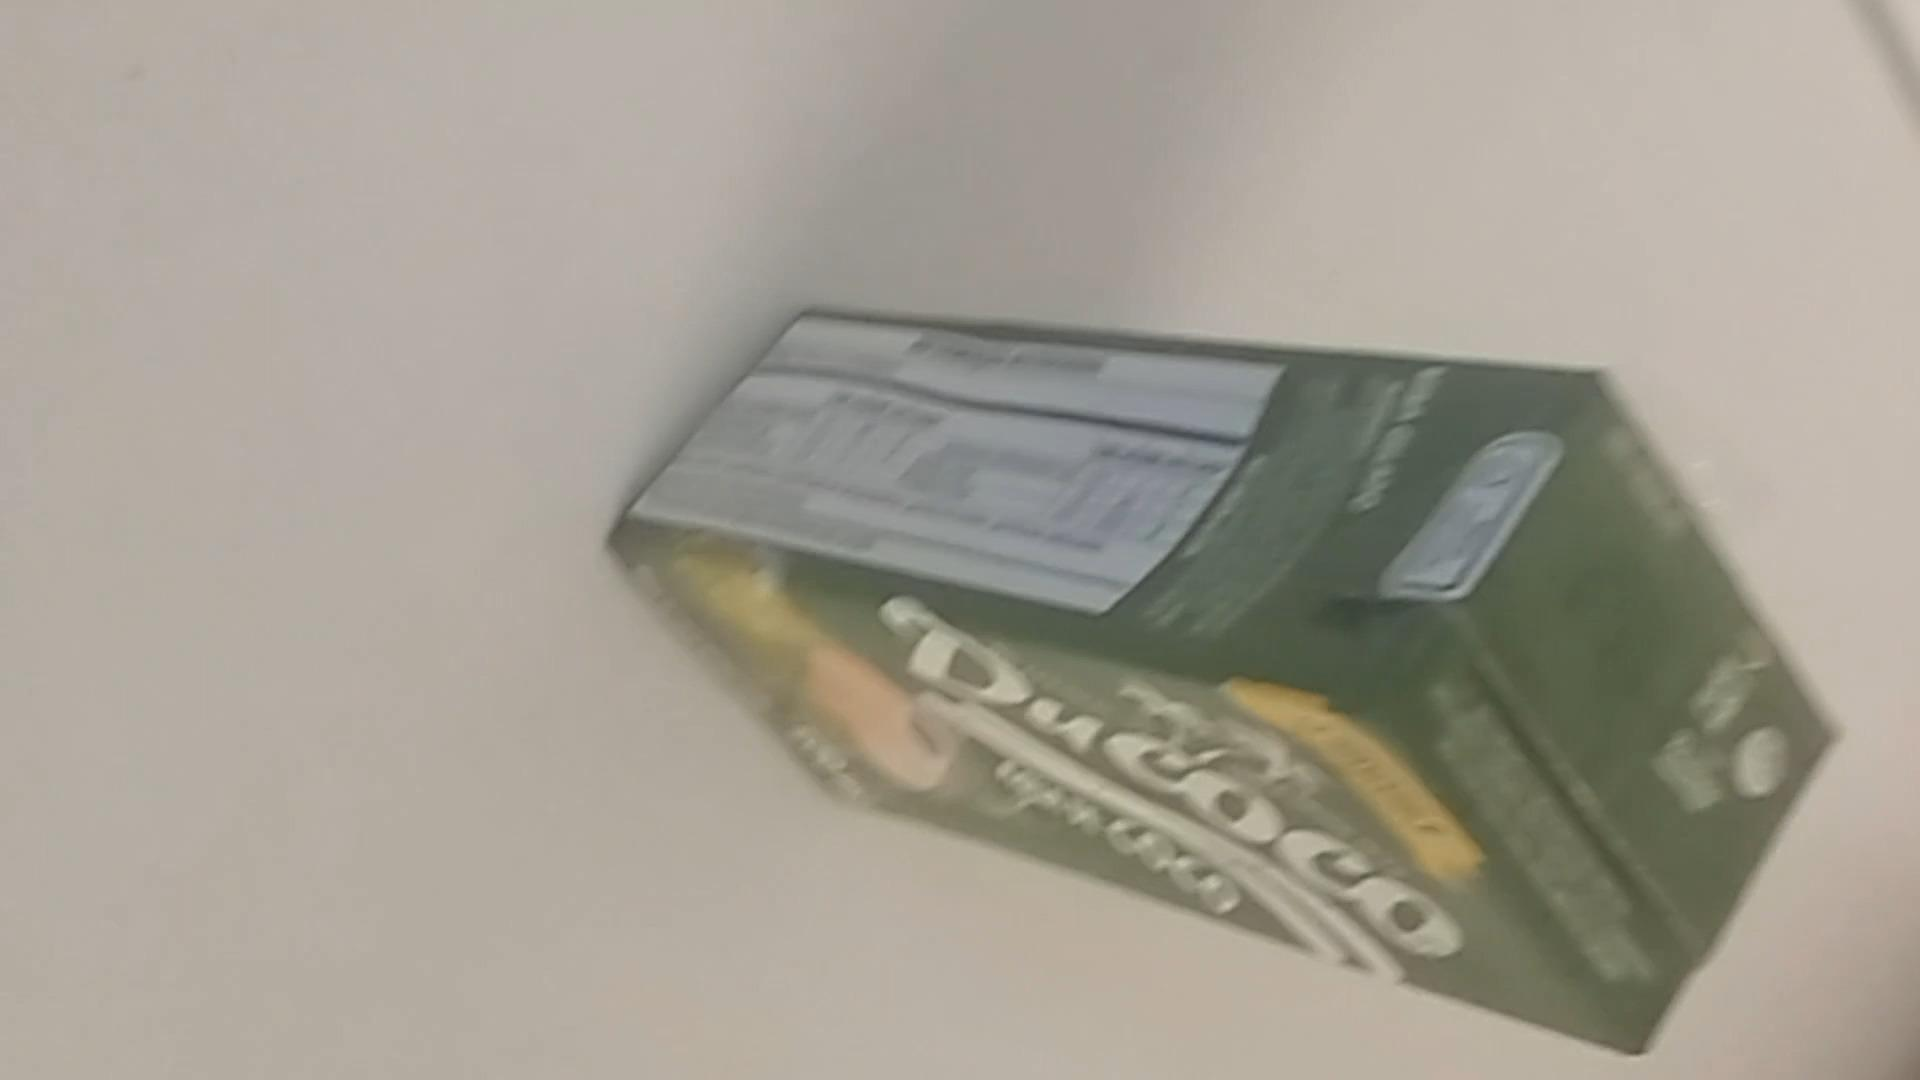coco: (611, 315, 1858, 1058)
